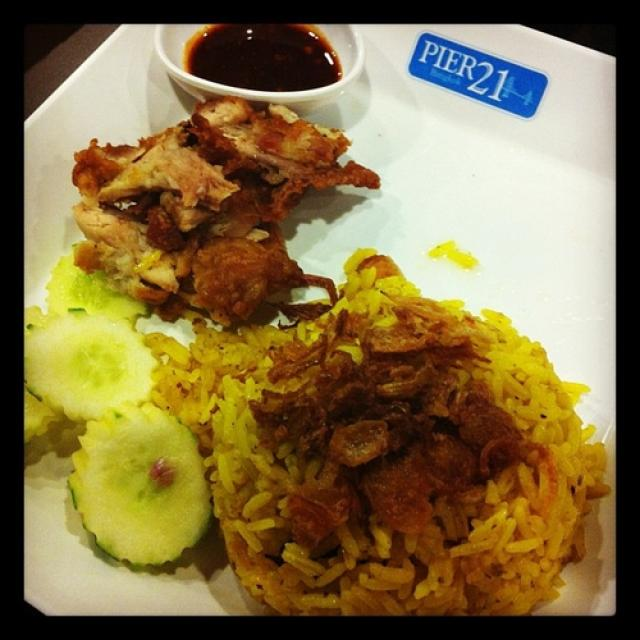米饭主食: (23, 20, 616, 608)
